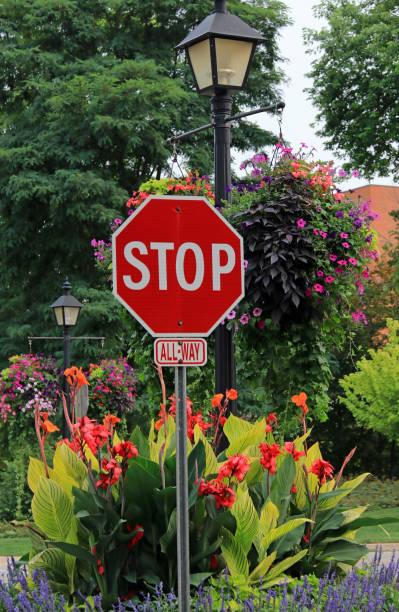Pole: (173, 365, 193, 612)
Sign: (112, 195, 245, 334)
